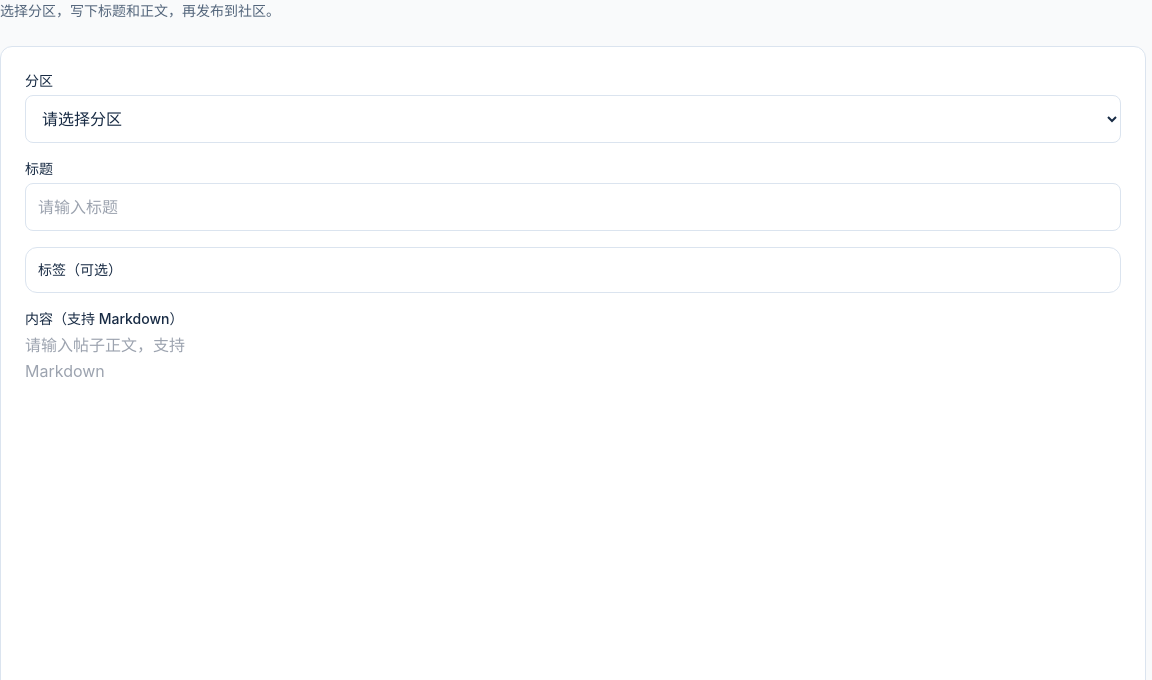
Test: ThreadCreate › blocks image upload after logout while retaining the owner draft
Type "退出前标题" into the field with id "thread-create-title".
click(573, 207); type("退出前标题")  # box 25,183 -> 1121,231
(page scrolled)
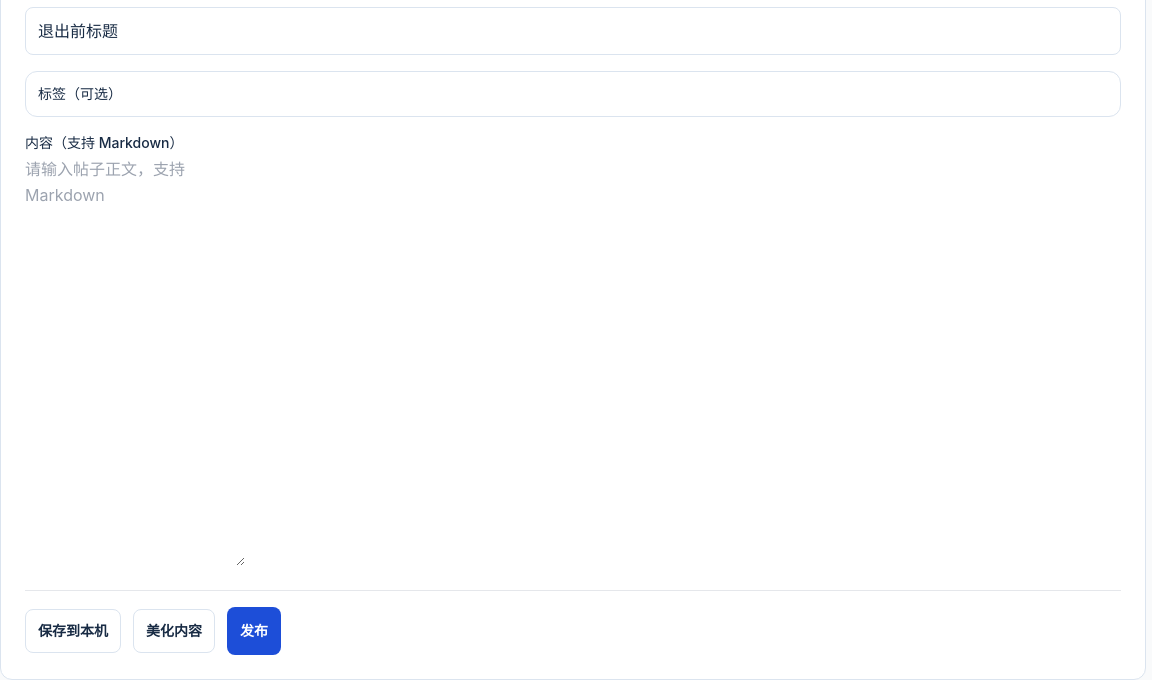
Type "退出前正文" into the text box with placeholder "请输入帖子正文，支持 Markdown".
click(135, 362); type("退出前正文")  # box 25,157 -> 245,566
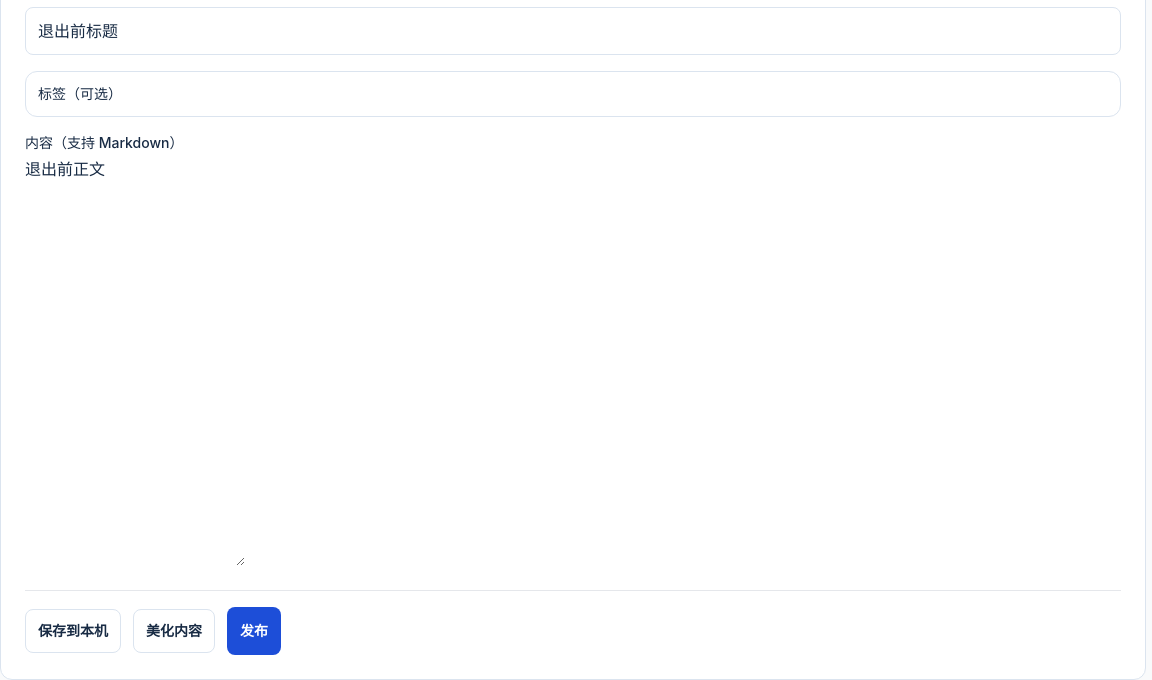
Click the button "保存到本机".
click(73, 631)  # box 25,609 -> 121,653
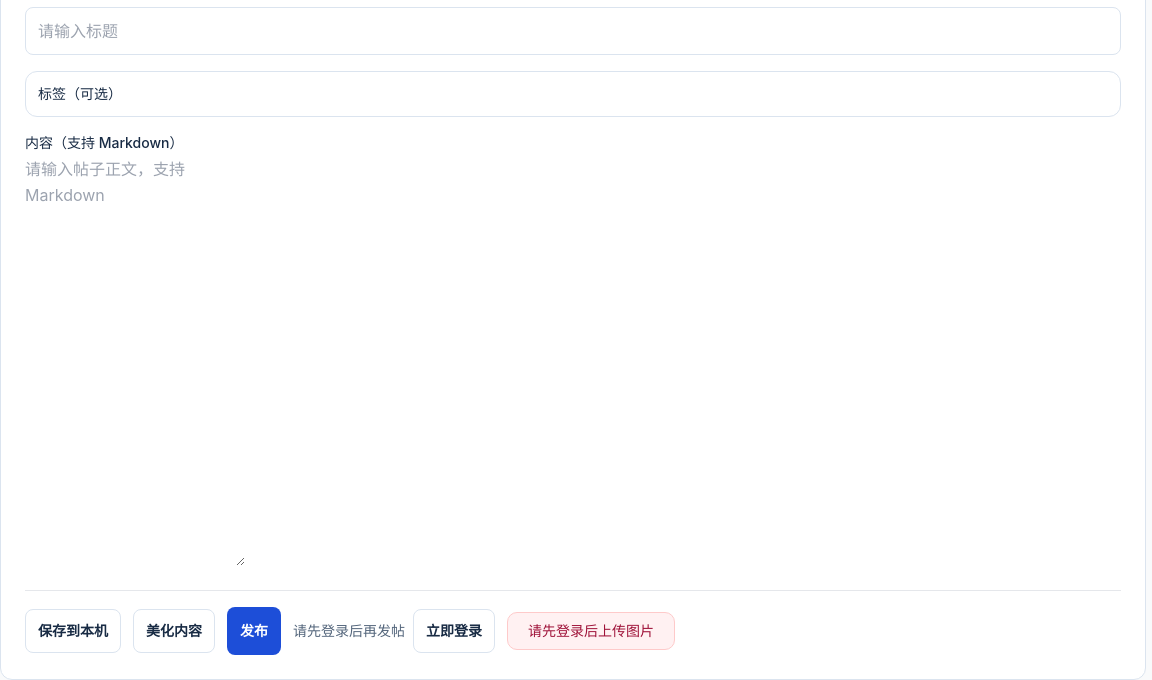
Now the text "请先登录后上传图片" is shown, box 507,612 -> 675,650
